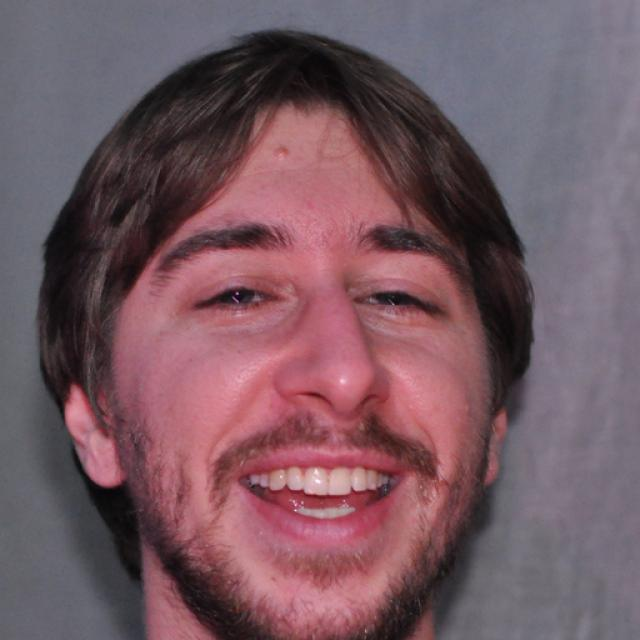Acne: (263, 142, 304, 173)
